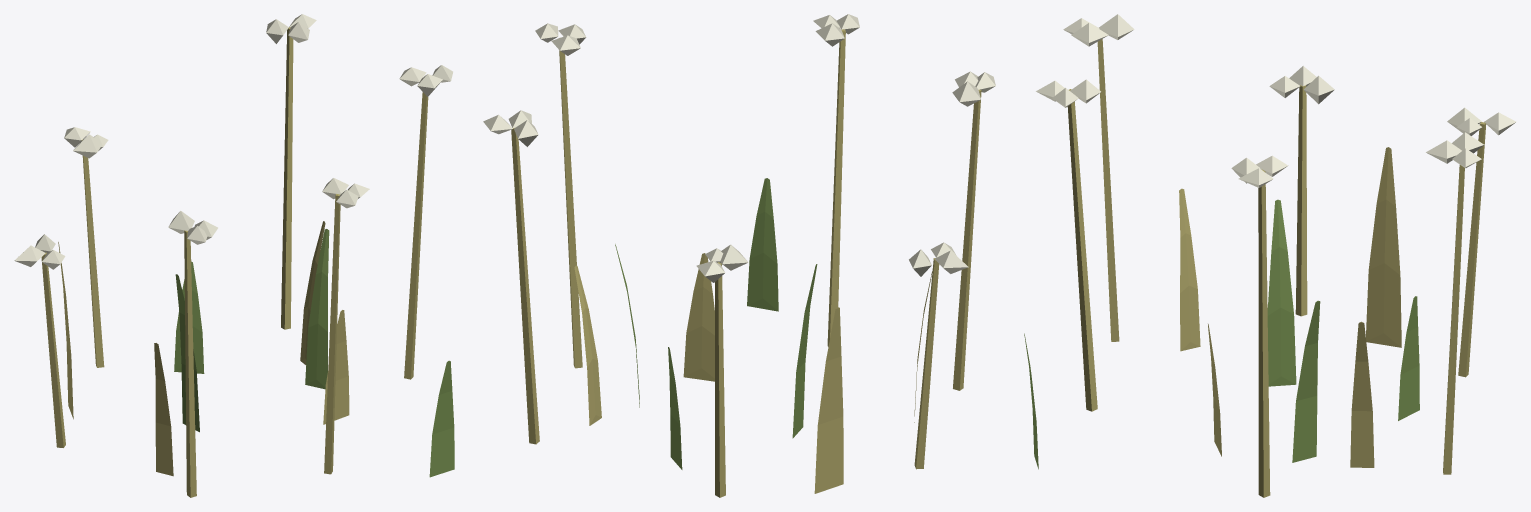
File: flowers_bog_b.glb
The picture shows the model from 3 angles, left to right: view 1: azimuth 30°, elevation 25°; view 2: azimuth 150°, elevation 25°; view 3: azimuth 270°, elevation 25°; orthographic projection. The views are drawn at different scales.
Visible parts, largest first — view 1: FlowersBogB; view 2: FlowersBogB; view 3: FlowersBogB.
Boxes of the visible parts, x1,y1,x2,y2 form: FlowersBogB: (14,14,454,497); FlowersBogB: (483,14,995,497); FlowersBogB: (1024,14,1516,497).
Bounding box in the file's own units: 0.4967 × 0.3528 × 0.451.
